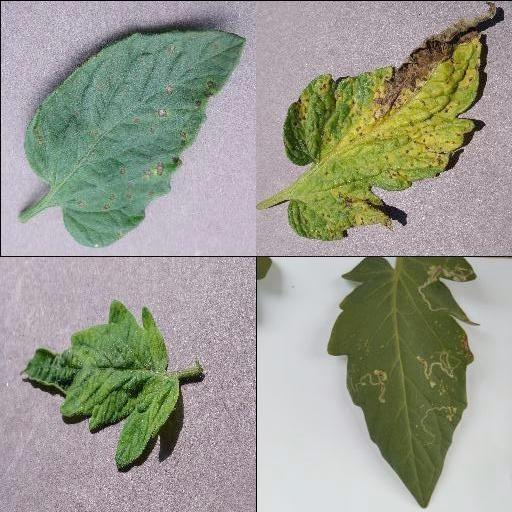Leaf Miner: (325, 256, 477, 508)
Mosaic Virus: (20, 296, 180, 470)
Septoria: (23, 30, 247, 249), (283, 5, 483, 239)
